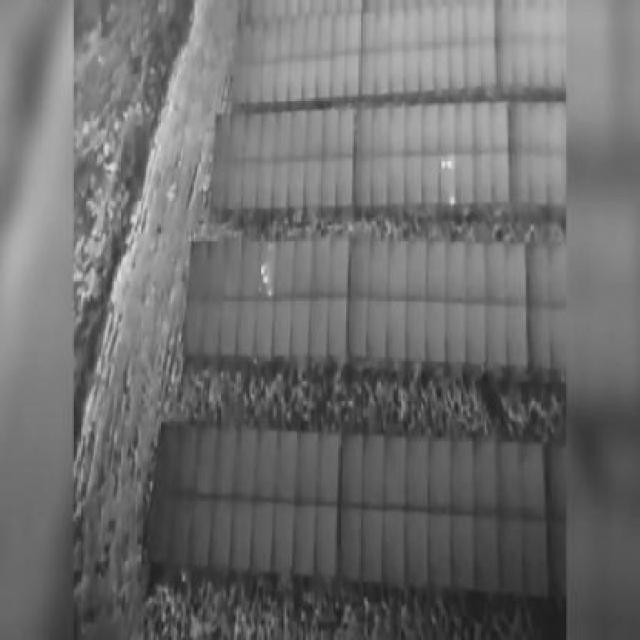hotspot: (445, 155, 452, 171), (449, 196, 456, 207), (441, 160, 448, 171)
